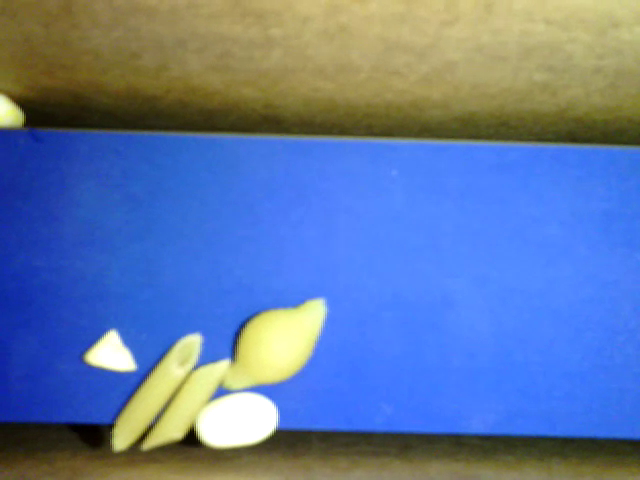penne: (111, 330, 204, 453), (141, 357, 230, 450)
shell: (221, 296, 329, 391)
